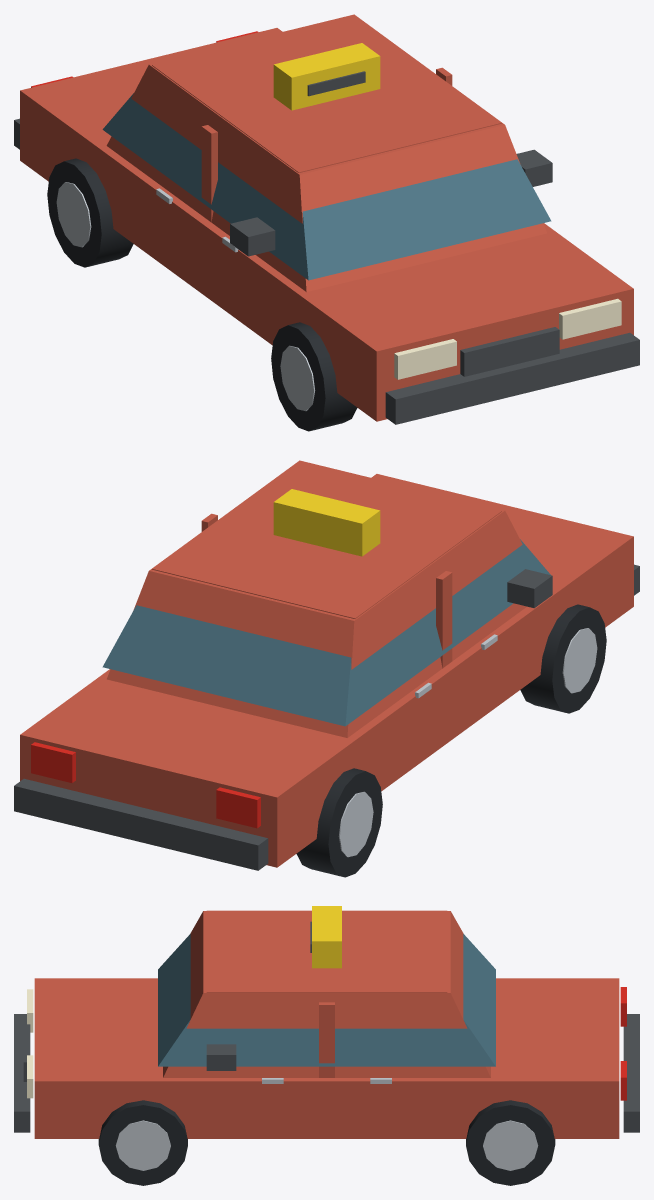
File: taxi.glb
The picture shows the model from 3 angles, top to bottom: view 1: azimuth 30°, elevation 25°; view 2: azimuth 150°, elevation 25°; view 3: azimuth 270°, elevation 25°; orthographic projection. The views are drawn at different scales.
Visible parts, largest first — view 1: Body, Windows, FrontBumper, WheelRearL, WheelFrontL, TaxiSign, Headlights, Grille, Mirrors; view 2: Body, Windows, RearBumper, WheelFrontL, WheelRearL, TaxiSign, TailLights, Mirrors; view 3: Body, Windows, WheelFrontR, WheelRearR, TaxiSign, RearBumper, FrontBumper, Mirrors, Headlights, TailLights.
Boxes of the visible parts, <box> form: Body: <box>20,14,633,421</box>; Windows: <box>102,93,551,280</box>; FrontBumper: <box>385,332,639,424</box>; WheelRearL: <box>47,158,133,267</box>; WheelFrontL: <box>271,322,357,431</box>; TaxiSign: <box>273,43,380,110</box>; Headlights: <box>394,298,621,379</box>; Grille: <box>460,327,559,376</box>; Mirrors: <box>230,149,552,256</box>; Body: <box>20,460,633,867</box>; Windows: <box>102,539,550,726</box>; RearBumper: <box>14,778,268,870</box>; WheelFrontL: <box>520,604,606,713</box>; WheelRearL: <box>296,768,382,877</box>; TaxiSign: <box>273,489,380,556</box>; TailLights: <box>31,742,260,828</box>; Mirrors: <box>507,569,552,608</box>; Body: <box>34,910,619,1138</box>; Windows: <box>158,934,495,1066</box>; WheelFrontR: <box>98,1100,187,1185</box>; WheelRearR: <box>466,1100,555,1185</box>; TaxiSign: <box>310,906,341,968</box>; RearBumper: <box>623,1014,639,1132</box>; FrontBumper: <box>14,1014,30,1132</box>; Mirrors: <box>206,1044,236,1070</box>; Headlights: <box>27,989,33,1098</box>; TailLights: <box>620,987,626,1100</box>.
Size of the model in its own units: 2.13 by 1.68 by 4.63.
